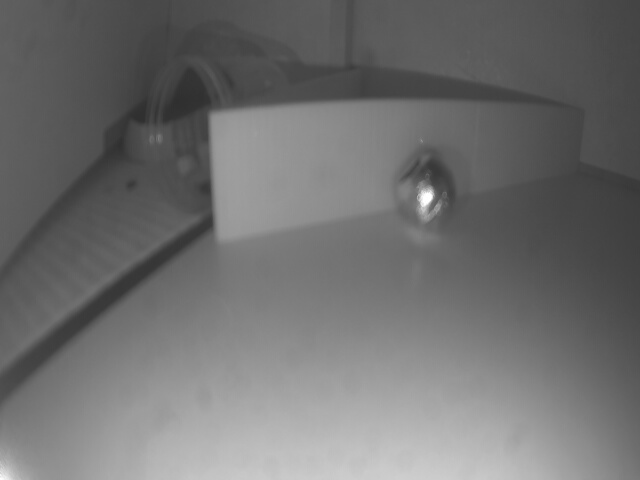Live: (395, 149, 462, 236)
Point: (213, 104, 586, 244)
